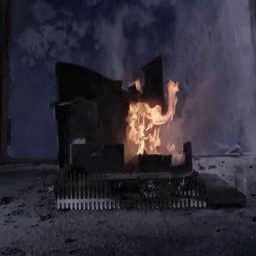fire: (111, 74, 186, 162)
